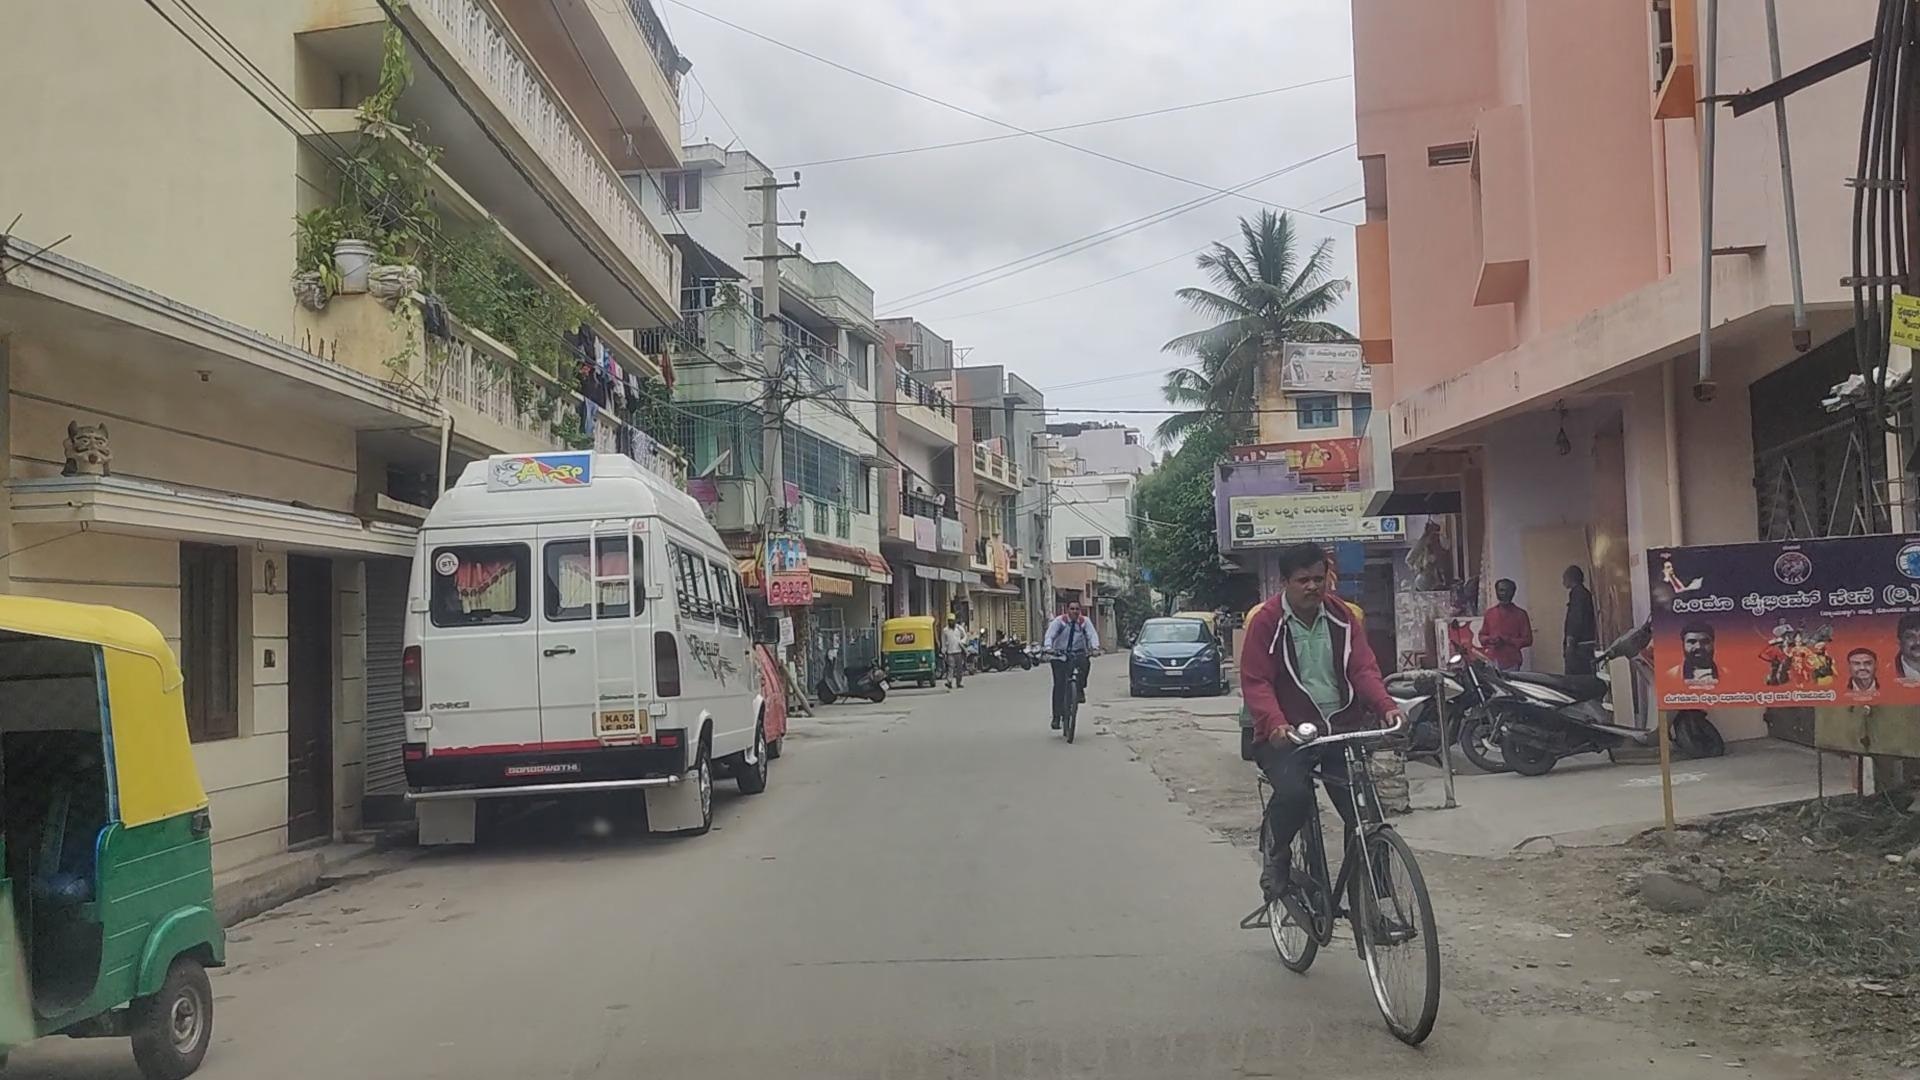HMV: (400, 465, 769, 841)
LMV: (1246, 547, 1447, 1035)
RoadDamages: (1122, 742, 1236, 810)
